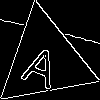A: (20, 35, 66, 91)
